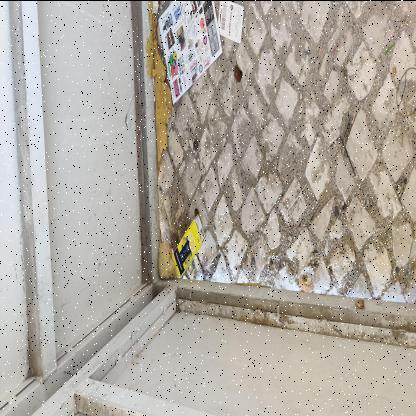cardboard: (172, 211, 206, 278), (217, 1, 245, 43)
paper: (157, 0, 223, 104)
